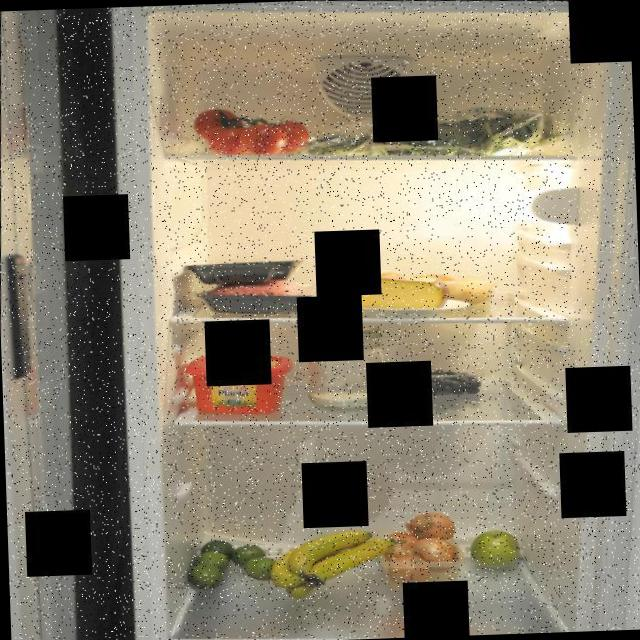Cebolla: (371, 508, 468, 594)
Mantequilla: (180, 348, 298, 418)
Manzana: (468, 521, 530, 572)
Patata: (410, 262, 498, 310)
Plátano: (266, 524, 398, 602)
Queso: (346, 265, 457, 319)
Tomate: (182, 100, 321, 164)
